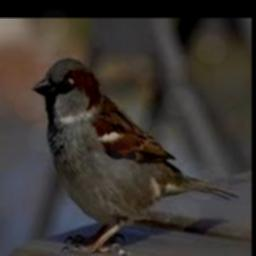Sparrow: (31, 57, 237, 253)
